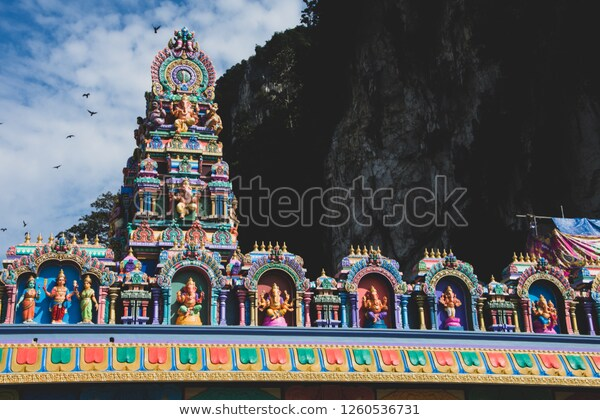Hindu Temple: (2, 24, 600, 402)
